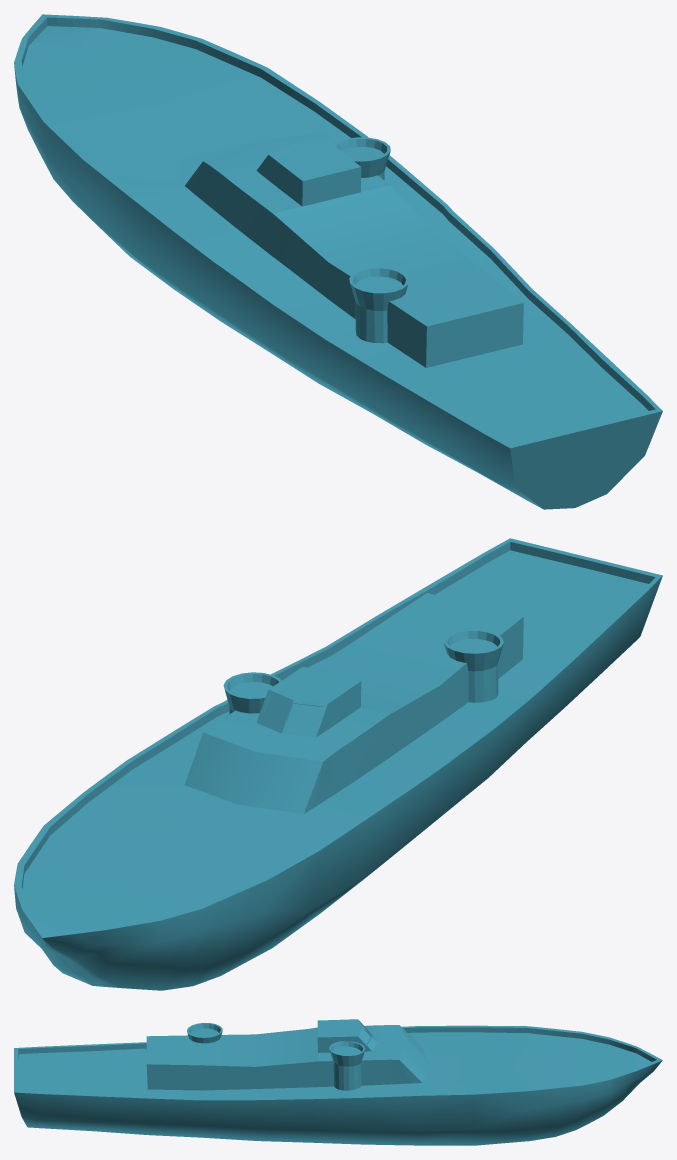
File: pt_boat_elco_hull.fbx
The picture shows the model from 3 angles, top to bottom: view 1: azimuth 30°, elevation 25°; view 2: azimuth 150°, elevation 25°; view 3: azimuth 270°, elevation 25°; orthographic projection. The views are drawn at different scales.
Visible parts, largest first — view 1: Hull; view 2: Hull; view 3: Hull.
Part boxes in pixels (bbox=[...]): Hull: bbox=[14, 14, 662, 509]; Hull: bbox=[14, 538, 662, 990]; Hull: bbox=[14, 1019, 662, 1145].
Bounding box in the file's own units: 609 × 410 × 2389.
